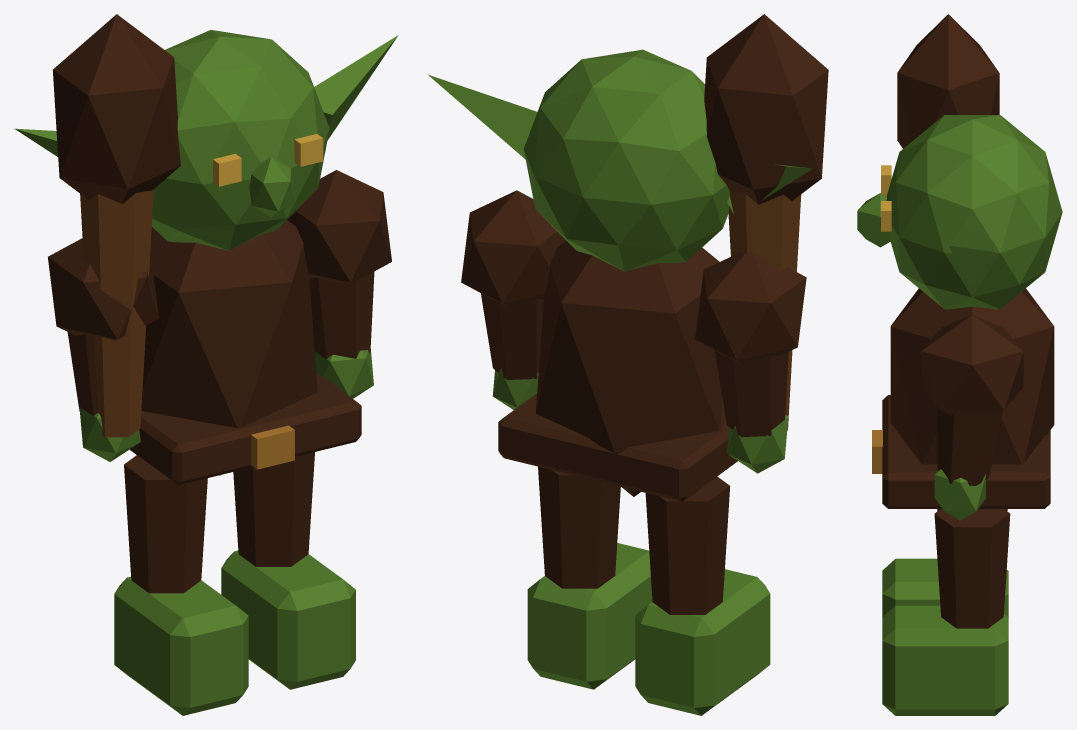
Rendered from Goblin.fbx.
The picture shows the model from 3 angles, left to right: view 1: azimuth 30°, elevation 25°; view 2: azimuth 150°, elevation 25°; view 3: azimuth 270°, elevation 25°; orthographic projection. The views are drawn at different scales.
Visible parts, largest first — view 1: Visual.004_Mesh, Head.004_Mesh, Grip.004_Mesh, RightLeg.004_Mesh, LeftLeg.004_Mesh, LeftArm.004_Mesh, RightArm.004_Mesh; view 2: Visual.004_Mesh, Head.004_Mesh, RightLeg.004_Mesh, Grip.004_Mesh, LeftLeg.004_Mesh, RightArm.004_Mesh, LeftArm.004_Mesh; view 3: Head.004_Mesh, Visual.004_Mesh, LeftLeg.004_Mesh, LeftArm.004_Mesh, Grip.004_Mesh, RightLeg.004_Mesh.
Part boxes in pixels (x1,y1,x2,y2): Visual.004_Mesh: (129, 220, 361, 485); Head.004_Mesh: (14, 30, 398, 250); Grip.004_Mesh: (52, 14, 180, 437); RightLeg.004_Mesh: (114, 455, 248, 715); LeftLeg.004_Mesh: (221, 452, 355, 689); LeftArm.004_Mesh: (287, 170, 391, 398); RightArm.004_Mesh: (48, 238, 158, 461); Visual.004_Mesh: (498, 241, 737, 501); Head.004_Mesh: (427, 49, 812, 271); RightLeg.004_Mesh: (635, 476, 770, 715); Grip.004_Mesh: (704, 14, 828, 430); LeftLeg.004_Mesh: (527, 466, 652, 689); RightArm.004_Mesh: (695, 252, 806, 473); LeftArm.004_Mesh: (461, 190, 566, 409); Head.004_Mesh: (857, 115, 1062, 309); Visual.004_Mesh: (872, 288, 1054, 508); LeftLeg.004_Mesh: (882, 509, 1010, 715); LeftArm.004_Mesh: (921, 315, 1023, 520); Grip.004_Mesh: (897, 14, 999, 148); RightLeg.004_Mesh: (882, 509, 1008, 617).
Size of the model in its own units: 0.5676 by 0.9718 by 0.2935.
